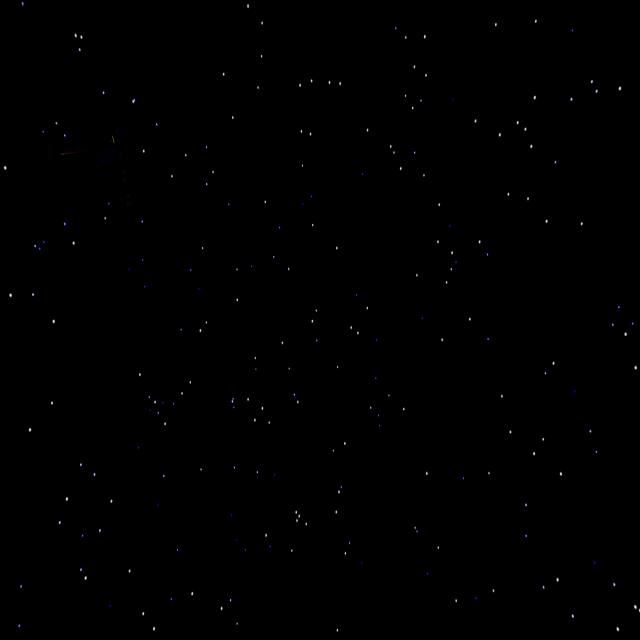medium_debris: (56, 123, 174, 237)
